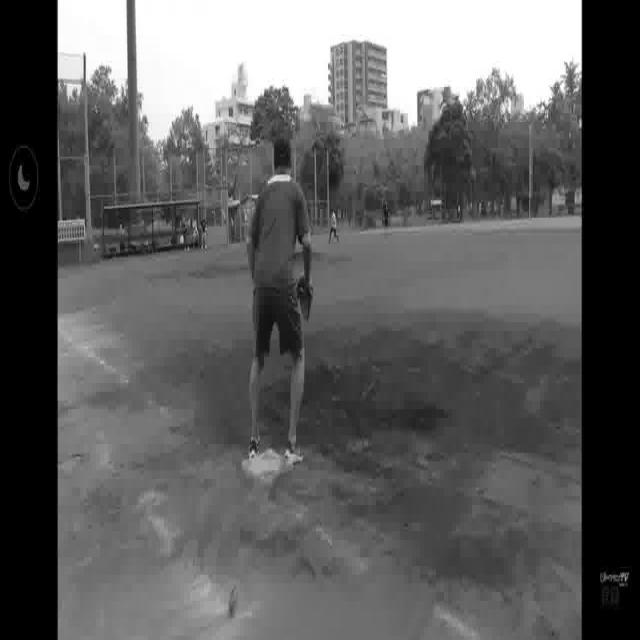base: (241, 444, 298, 483)
shoe: (280, 438, 306, 465), (244, 430, 262, 463)
